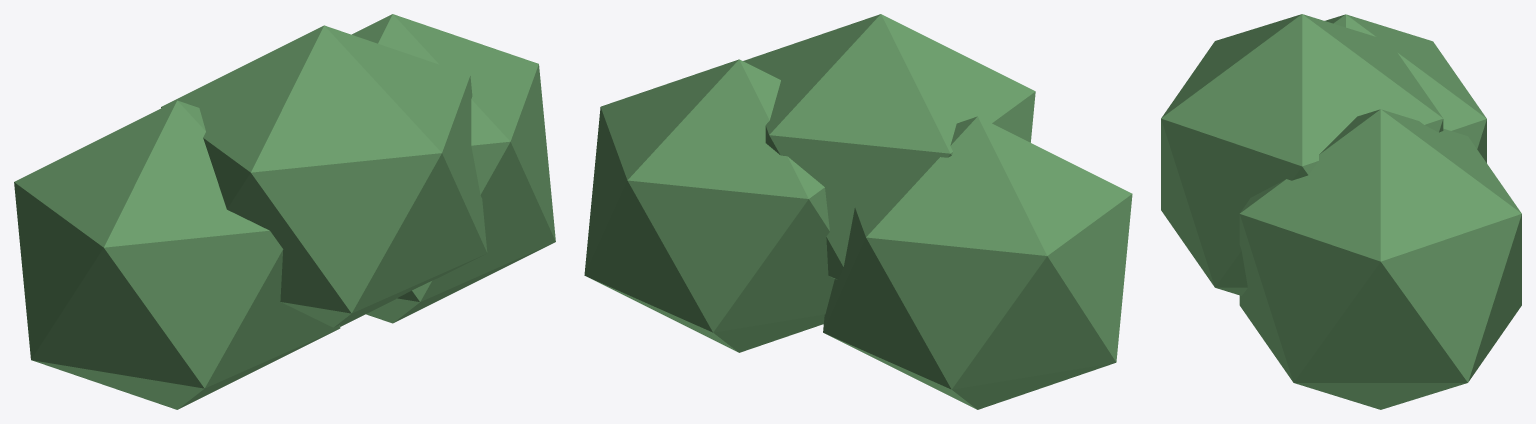
Rendered from bush_a.glb.
3 views of the same model, side by side, from view 1: azimuth 30°, elevation 25°; view 2: azimuth 150°, elevation 25°; view 3: azimuth 270°, elevation 25° (orthographic). The views are drawn at different scales.
Visible parts, largest first — view 1: foliage.002, foliage, foliage.001; view 2: foliage, foliage.001, foliage.002; view 3: foliage.001, foliage.002, foliage.
Boxes of the visible parts, x1,y1,x2,y2 form: foliage.002: (161,25,487,327); foliage: (14,100,340,409); foliage.001: (352,14,555,323); foliage: (823,116,1132,409); foliage.001: (584,59,834,352); foliage.002: (743,14,1035,279); foliage.001: (1239,109,1521,409); foliage.002: (1161,14,1443,295); foliage: (1325,14,1486,162).
Bounding box in the file's own units: 1.35 × 0.91 × 0.8265.
